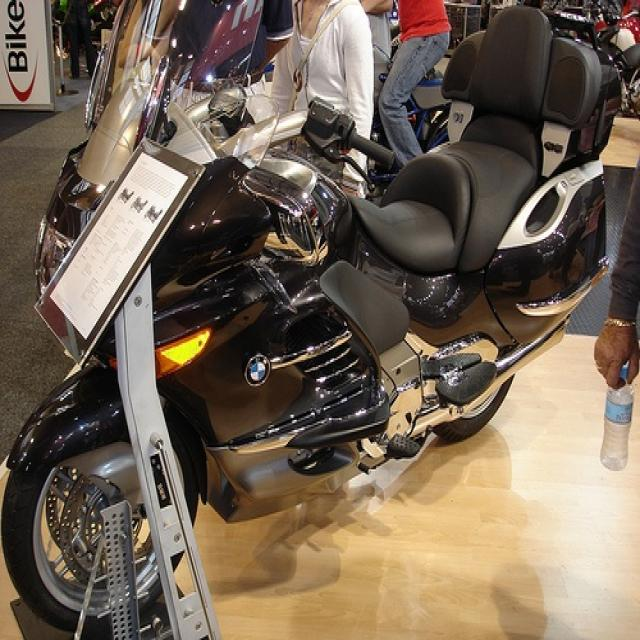bottle: (601, 351, 635, 475)
motorbike: (1, 3, 626, 639)
person: (270, 1, 380, 196), (378, 1, 452, 175), (596, 156, 640, 385)
